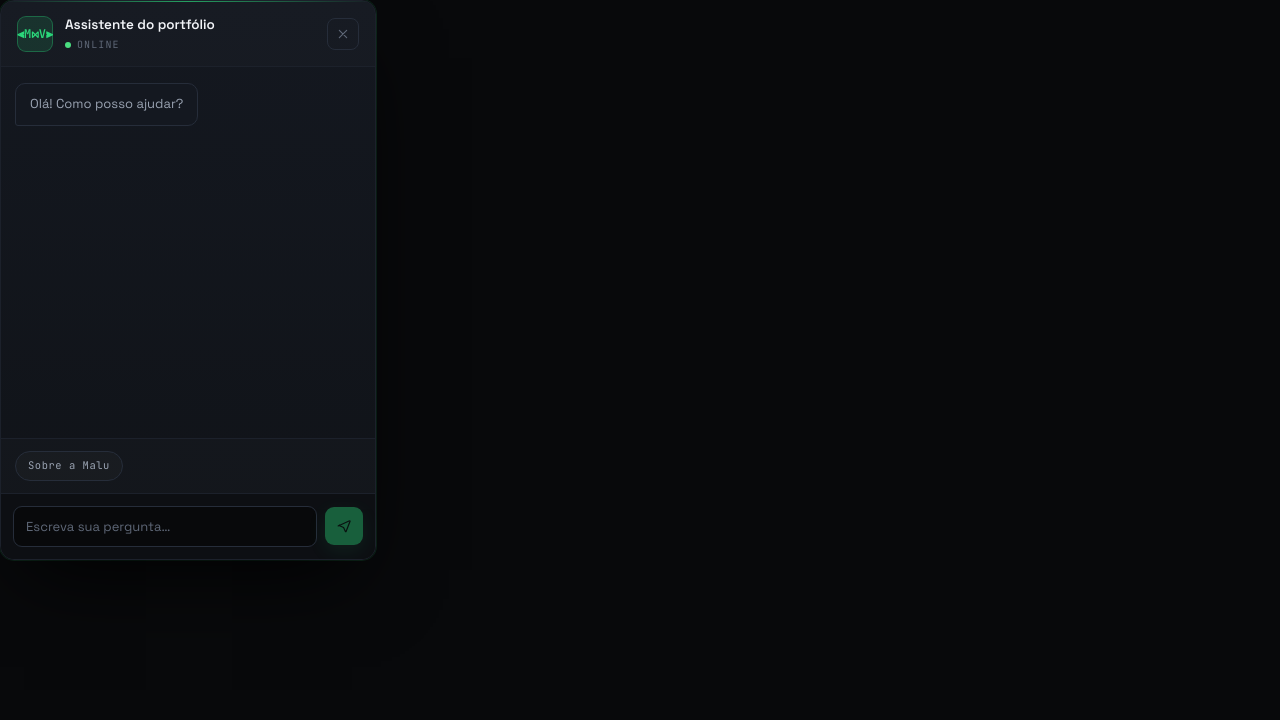
Test: ChatWindow (componente) - unit › deve exibir a resposta após o tempo de processamento
Type "Quero conhecer os projetos" into the field named "Escreva sua mensagem". click: (165, 526)
box: [13, 506, 317, 547]
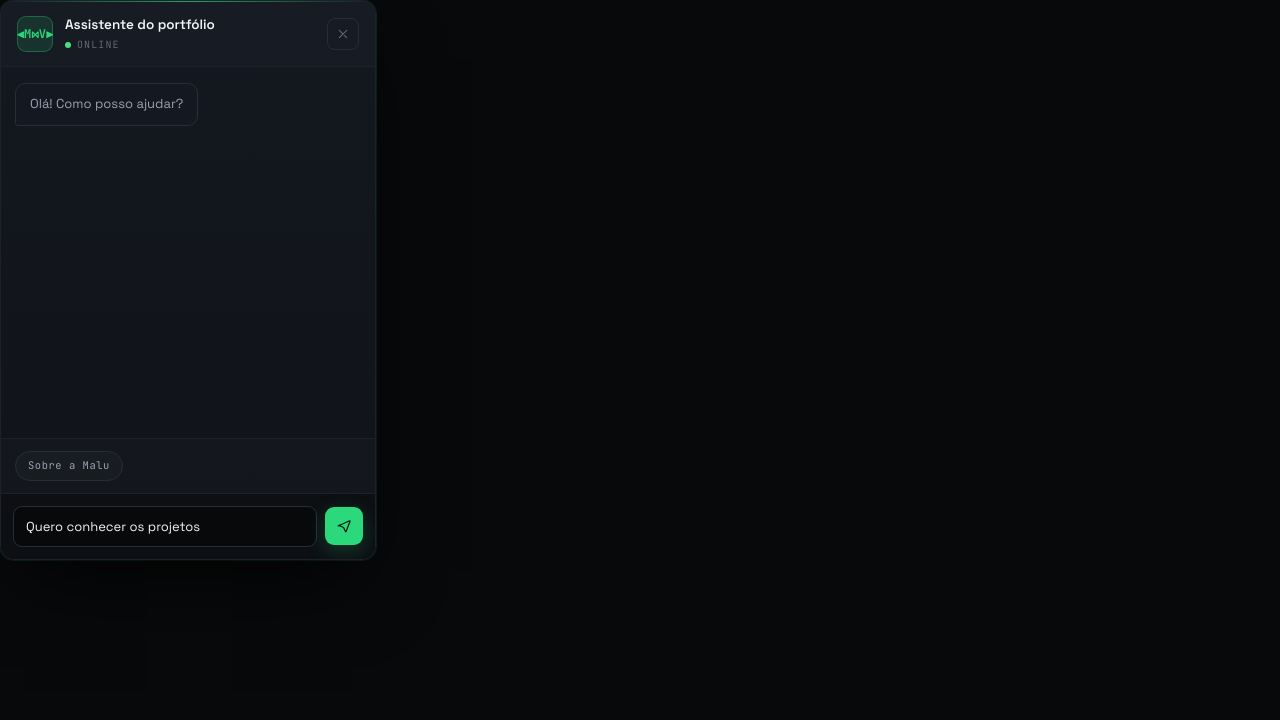
Click the button named "Enviar mensagem". click: (344, 526)
box: [325, 507, 363, 545]
Wait 420 ms
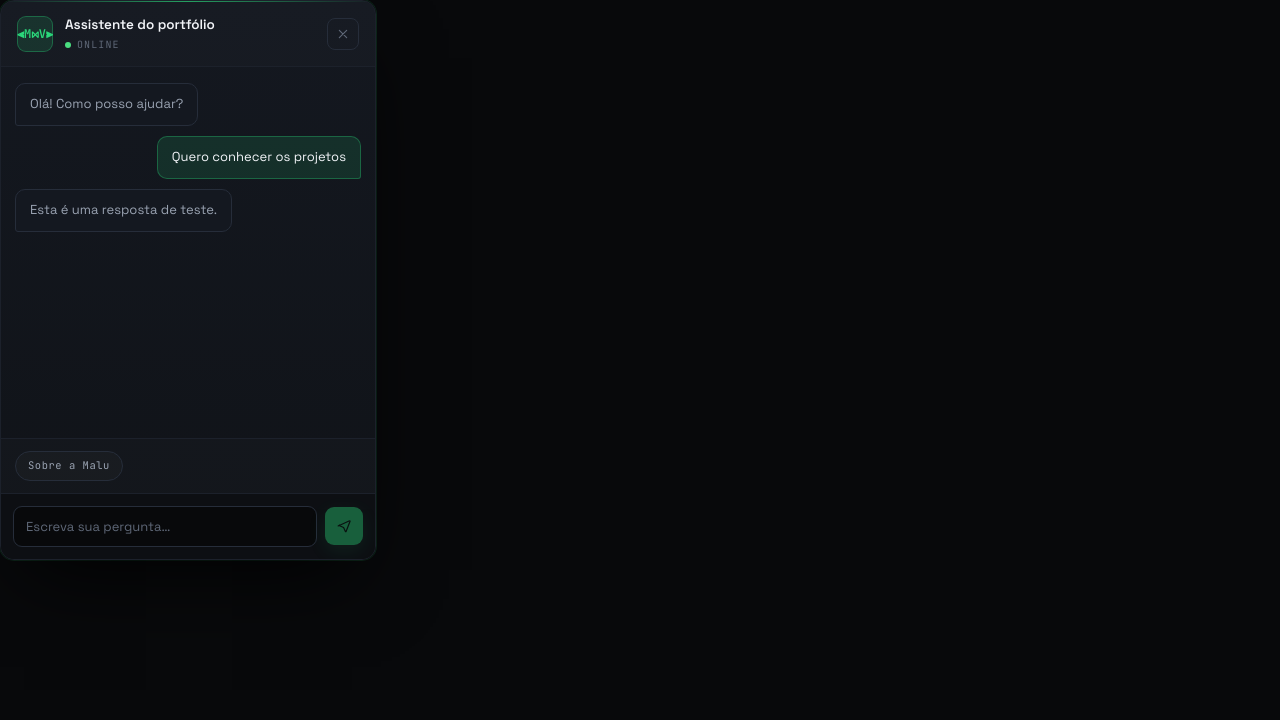
Expected: the text "Esta é uma resposta de teste." is shown, [15, 189, 232, 232]
